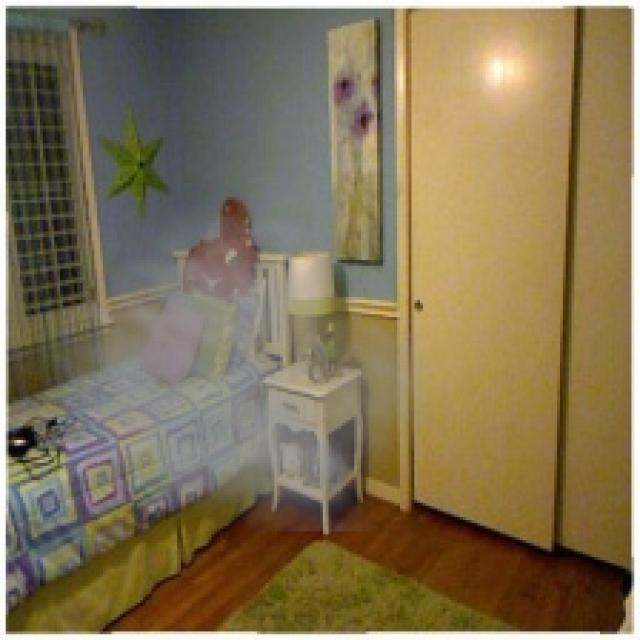smoke: (26, 172, 451, 532)
